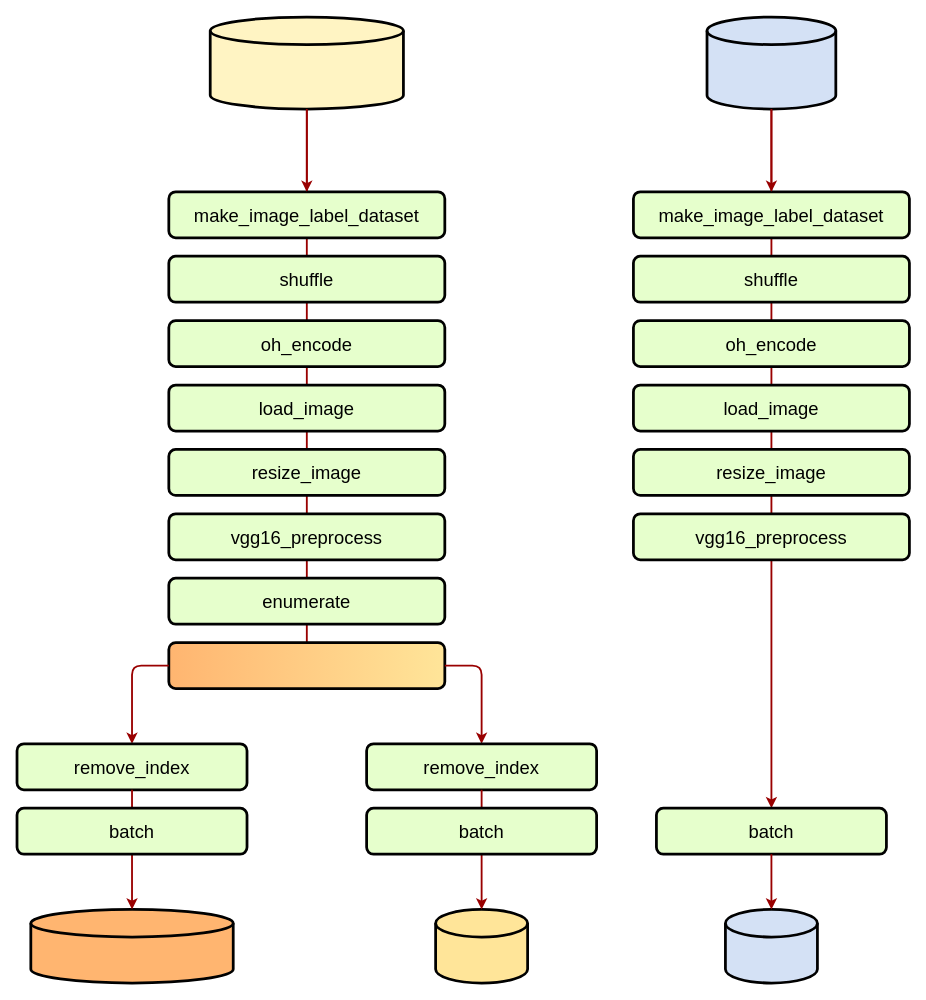
Image size: 926x1000. Some labels were removed from this diagram. Each missing label, with the centre of its shape:
"augmented files" goes at (x=306, y=62).
"filter" goes at (x=306, y=665).
"test files" goes at (x=771, y=62).
"test_ds" goes at (x=771, y=946).
"train_ds" goes at (x=131, y=946).
"val_ds" goes at (x=481, y=946).
